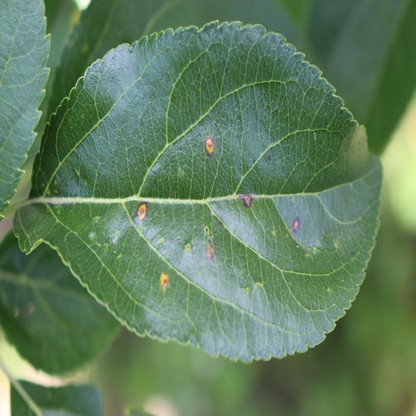rust: (137, 201, 148, 220), (241, 195, 253, 210), (160, 273, 169, 290), (206, 138, 214, 157), (291, 217, 300, 232), (206, 246, 214, 262)
